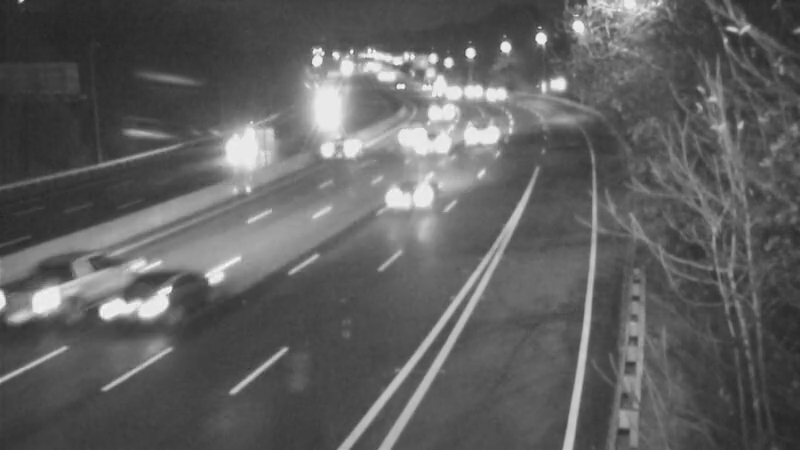vehicle: (97, 250, 207, 360), (1, 248, 98, 358), (379, 152, 459, 232), (189, 119, 269, 199), (410, 80, 460, 130), (456, 101, 506, 151), (390, 113, 440, 163), (408, 117, 458, 167), (317, 121, 367, 171), (303, 73, 353, 123)
